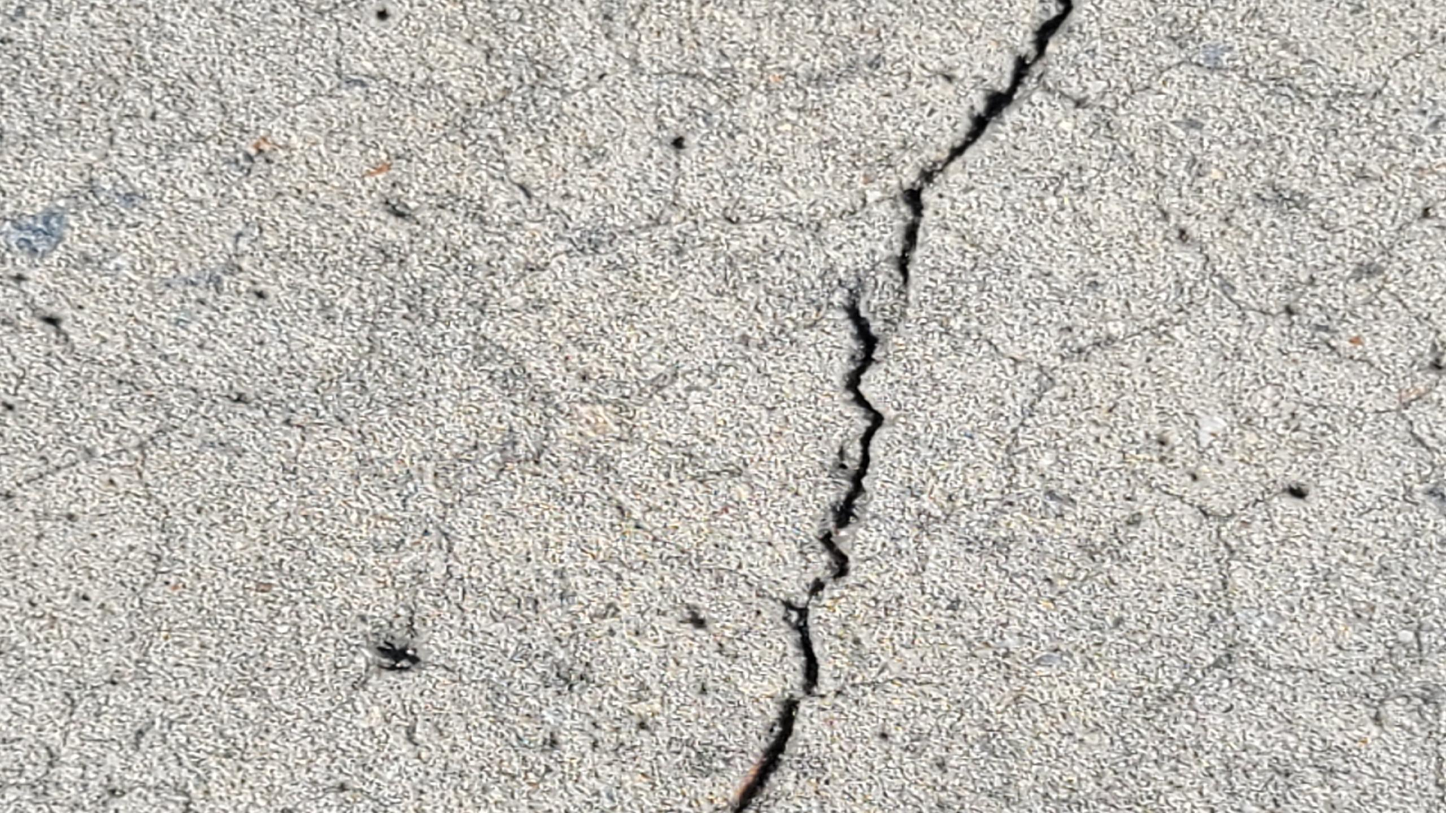crack: (893, 0, 1075, 289), (796, 290, 887, 691), (730, 695, 802, 812)
